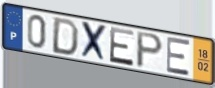0: (25, 13, 49, 51)
D: (50, 16, 81, 58)
E: (108, 25, 136, 68), (165, 36, 192, 78)
P: (135, 30, 165, 70)
X: (79, 20, 108, 65)
